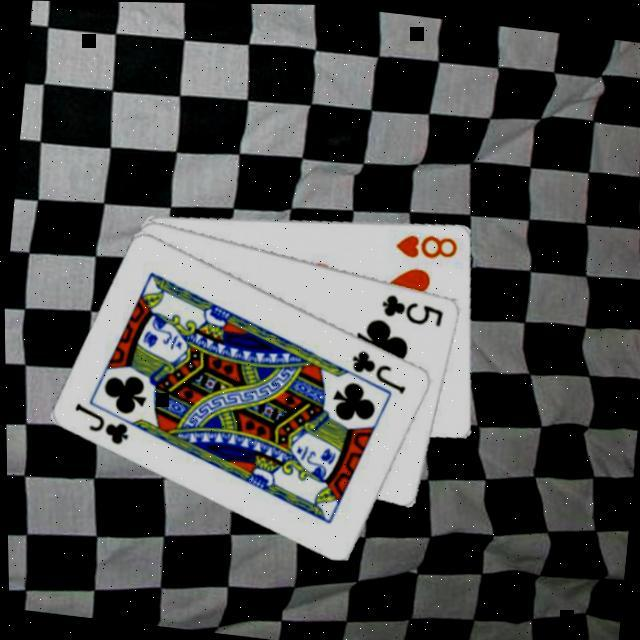5C: (375, 289, 446, 329)
8H: (389, 226, 460, 264)
JC: (344, 344, 411, 396), (66, 398, 132, 449)
